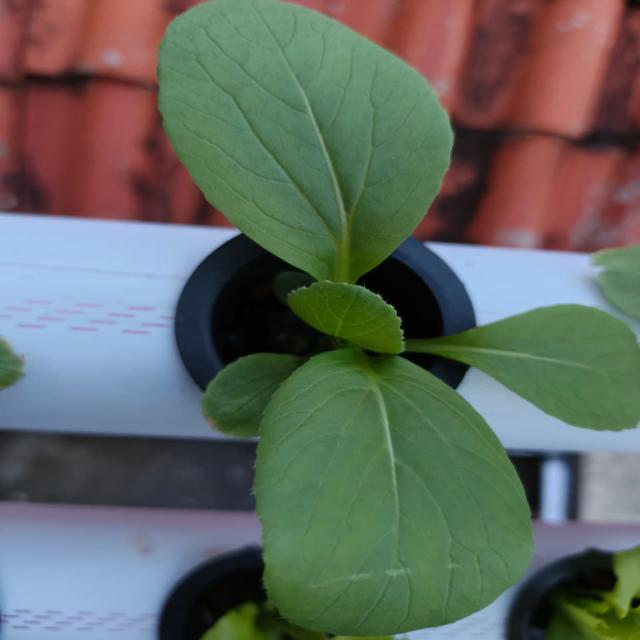daun-pakcoy: (157, 0, 454, 284), (255, 348, 532, 636), (430, 304, 639, 430), (202, 353, 305, 436), (287, 281, 403, 354)
